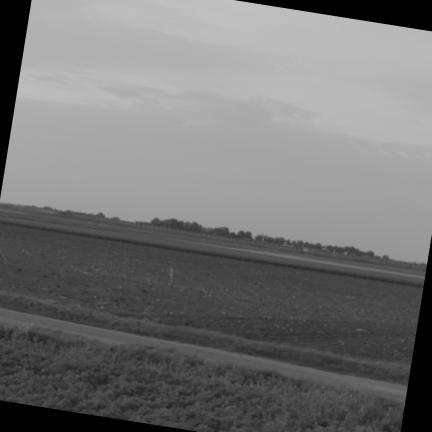Shahed: (168, 266, 174, 285)
